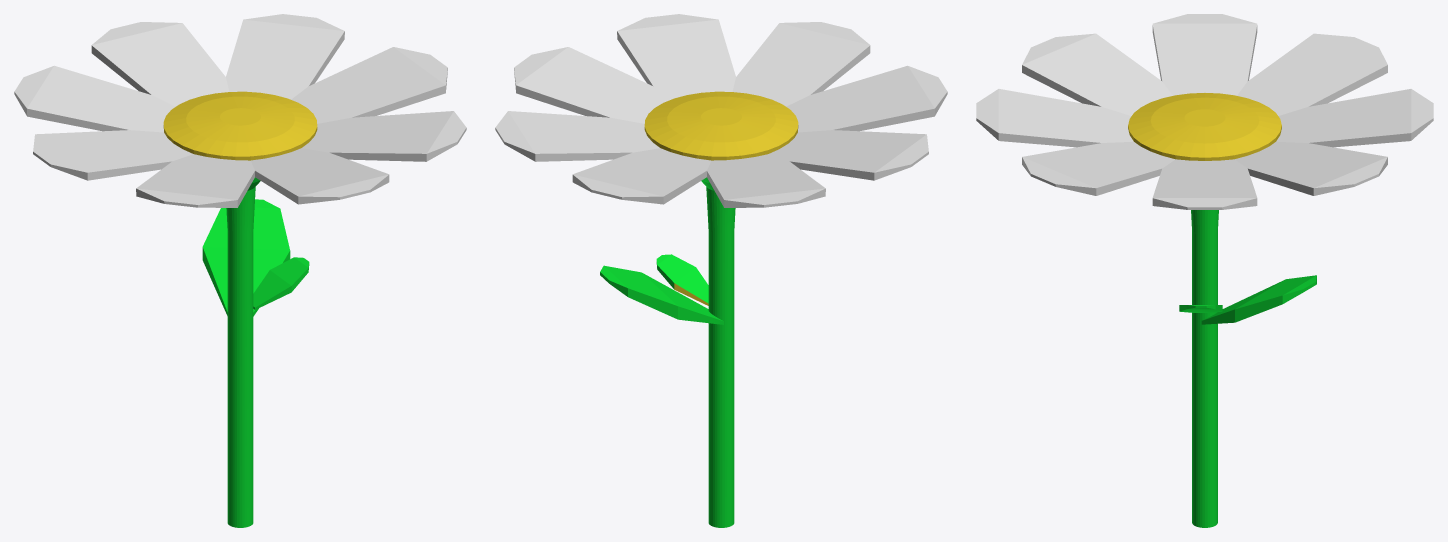
File: Kwiatek1.fbx
3 renders of one model, left to right at view 1: azimuth 30°, elevation 25°; view 2: azimuth 150°, elevation 25°; view 3: azimuth 270°, elevation 25°, orthographic.
Visible parts, largest first — view 1: Cube.001; view 2: Cube.001; view 3: Cube.001.
Part boxes in pixels (x1,y1,x2,y2): Cube.001: [14, 14, 466, 527]; Cube.001: [495, 14, 947, 527]; Cube.001: [976, 14, 1433, 527].
Bounding box in the file's own units: 1164 × 1157 × 1164.
